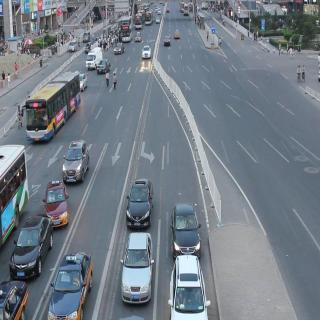BigCar: (28, 73, 84, 138), (0, 141, 27, 238), (119, 20, 133, 42)
Car: (50, 251, 88, 320), (12, 218, 52, 280), (168, 258, 208, 320), (121, 234, 154, 298), (169, 205, 203, 260), (1, 278, 35, 320), (44, 178, 69, 226), (128, 182, 152, 228), (60, 142, 88, 180), (86, 45, 102, 66), (98, 59, 112, 74), (162, 32, 172, 49), (68, 35, 78, 52), (115, 39, 124, 55), (173, 28, 182, 42), (141, 45, 150, 58), (82, 28, 91, 41), (135, 29, 143, 42)
